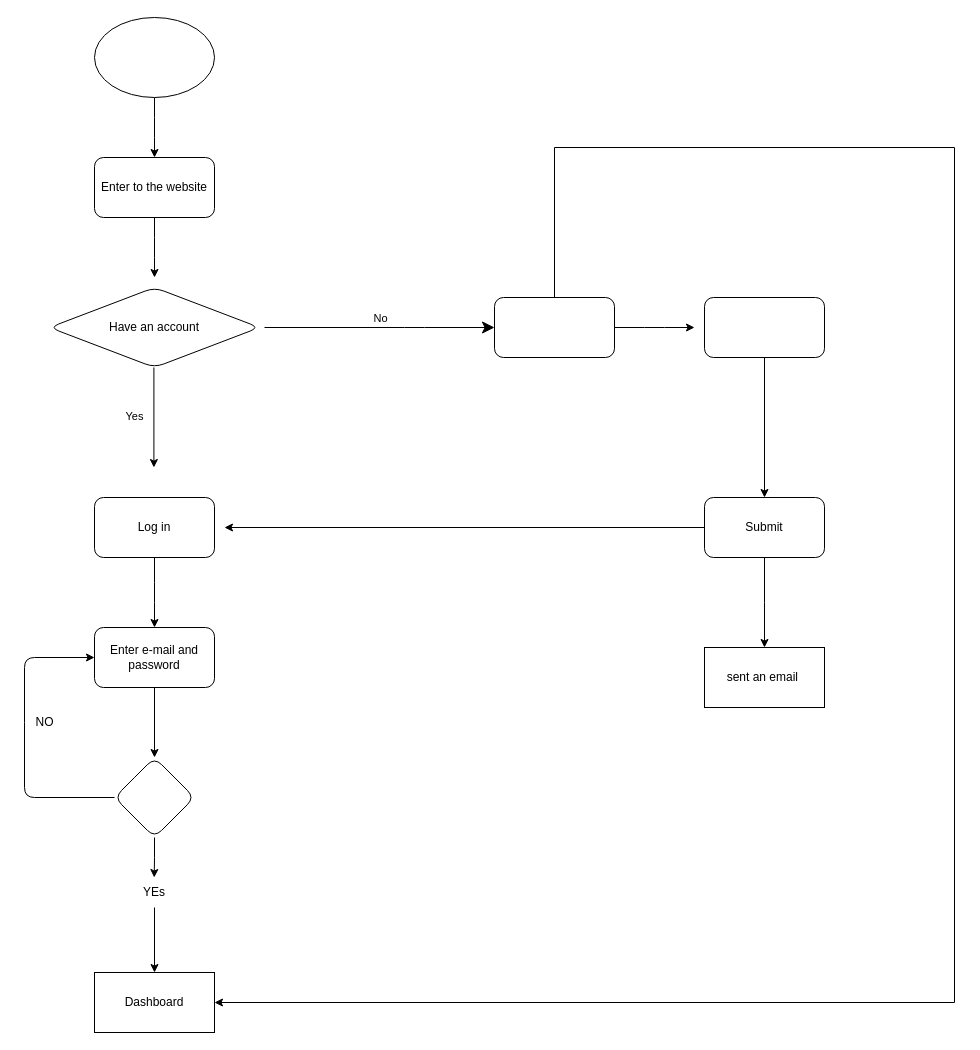
Image size: 980x1050. Some labels were removed from this diagram. Here are the shapes that lost their labels. From the top down, the box of each, then its label:
(94, 16, 214, 98): Start
(494, 296, 614, 358): Sign Up
(704, 296, 824, 358): Fill out Information
(114, 756, 194, 838): validation
